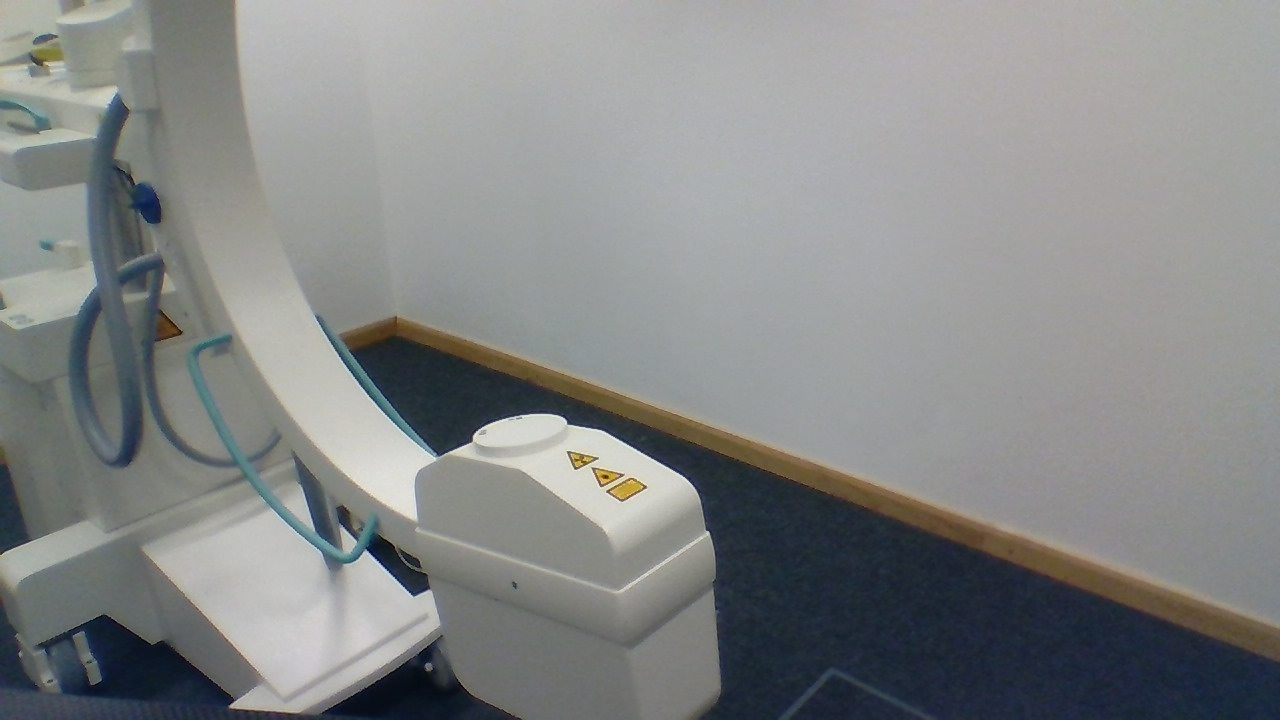carmBACK: (37, 234, 87, 271)
carmDOWN: (410, 411, 722, 596)
carmLOCK: (124, 180, 164, 226)
